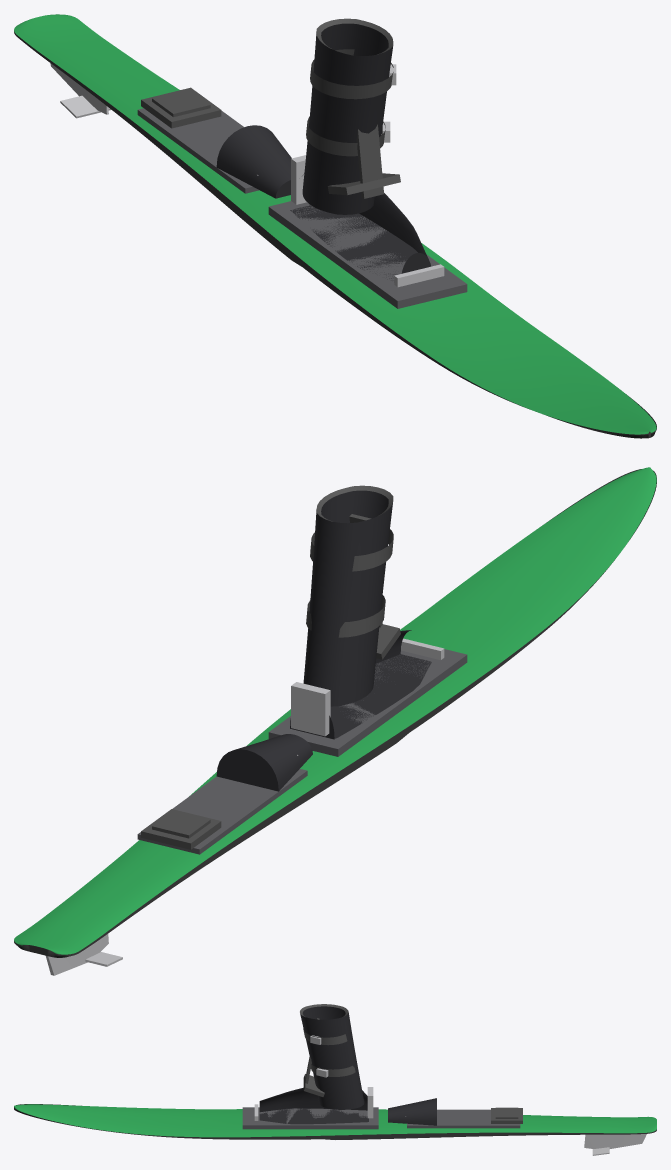
File: SkiV3_ToePlate.fbx
3 views of the same model, one above another, from view 1: azimuth 30°, elevation 25°; view 2: azimuth 150°, elevation 25°; view 3: azimuth 270°, elevation 25° (orthographic). The views are drawn at different scales.
Visible parts, largest first — view 1: BindingsV3_LOD0, SkiV3_LOD0; view 2: SkiV3_LOD0, BindingsV3_LOD0; view 3: BindingsV3_LOD0, SkiV3_LOD0.
Boxes of the visible parts, x1,y1,x2,y2 form: BindingsV3_LOD0: (50, 18, 467, 308); SkiV3_LOD0: (14, 14, 656, 438); SkiV3_LOD0: (14, 467, 656, 957); BindingsV3_LOD0: (46, 485, 467, 975); BindingsV3_LOD0: (242, 1004, 646, 1155); SkiV3_LOD0: (14, 1104, 656, 1139).
Size of what is drawn, in the model's own units: 0.1767 by 0.403 by 1.7.
